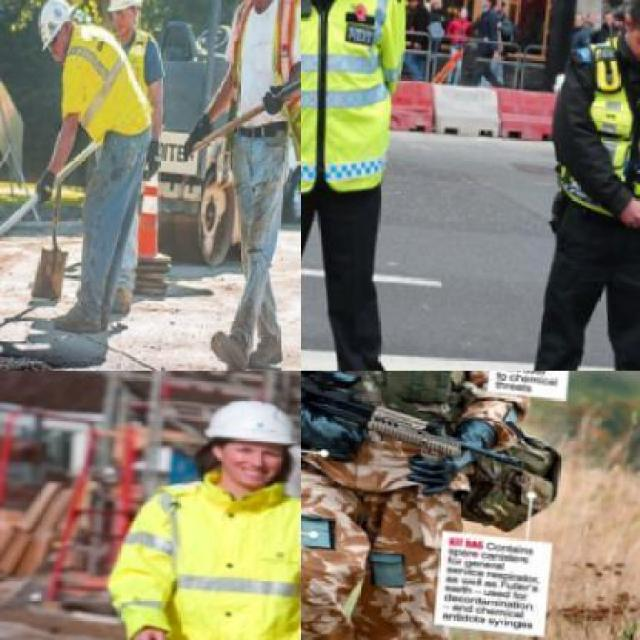hat: (194, 379, 299, 453), (42, 0, 80, 49)
